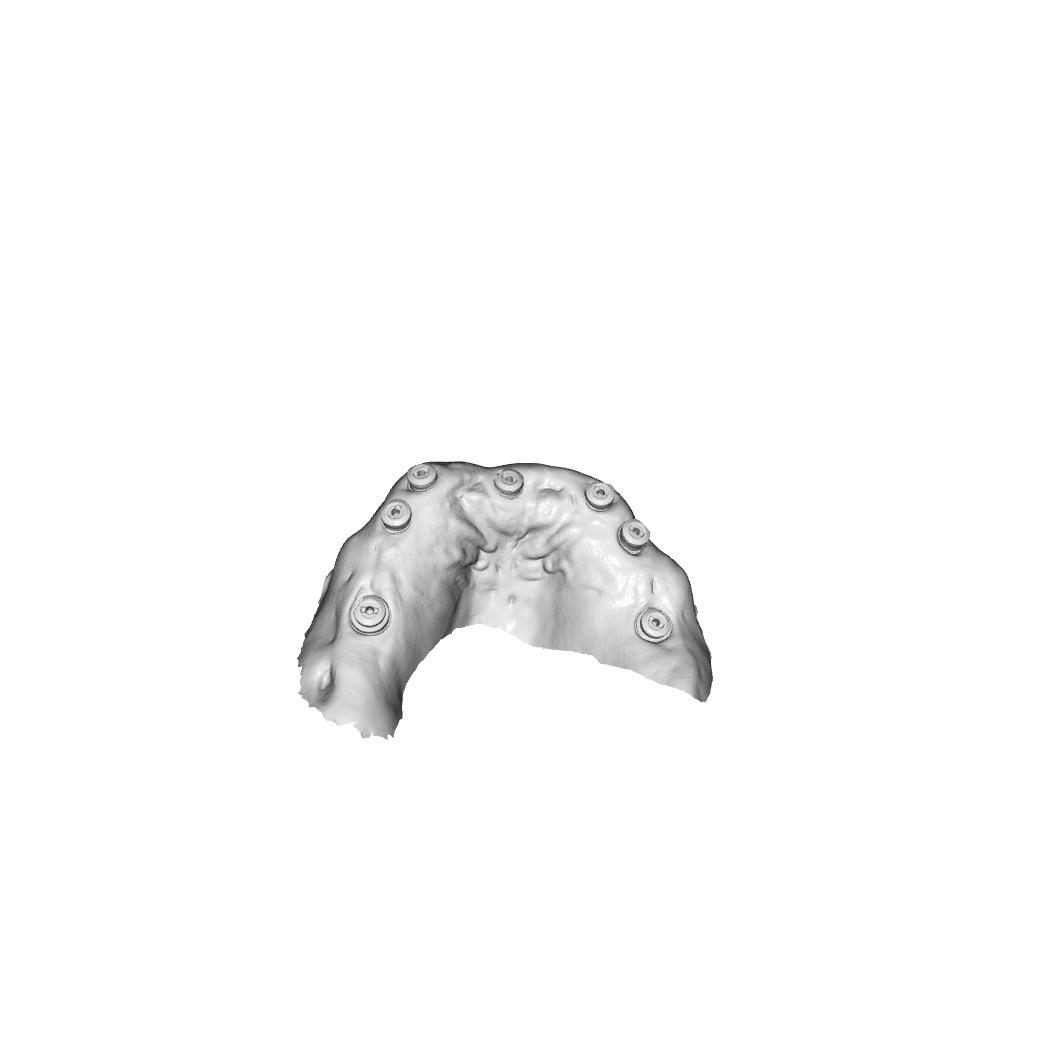implant_minus: (348, 592, 389, 638), (635, 606, 675, 643), (619, 515, 653, 554), (585, 479, 617, 511), (379, 498, 410, 530), (494, 467, 524, 496), (406, 461, 437, 487)
